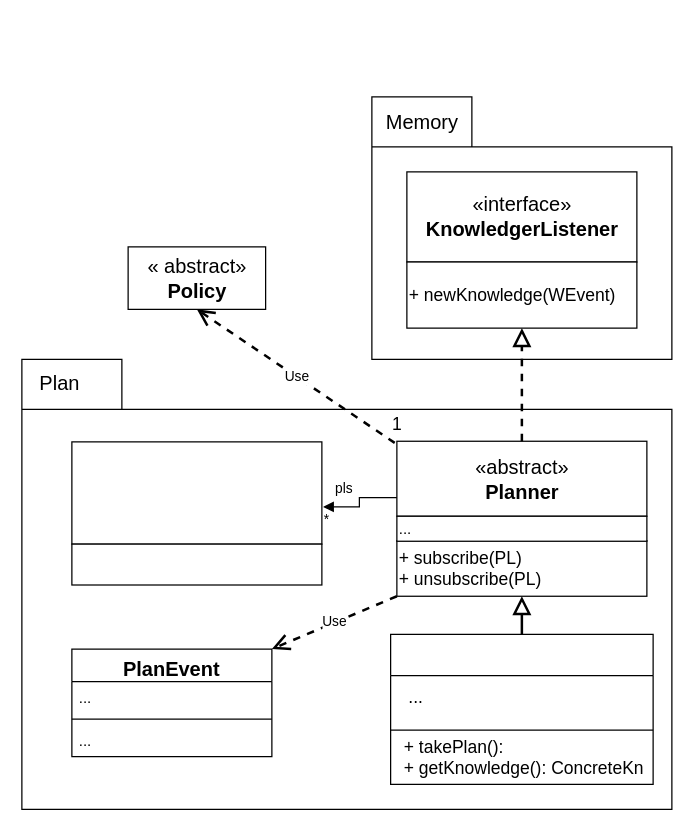
The diagram is 694 pixels wide and 831 high, and some of its shapes have lost their labels. The shapes that lost their labels are listed below. From the top down, each one's box as (x1, y1, x2, y2) in pixels, then its label:
(71, 441, 322, 544): «interface» PlannerListener
(71, 543, 322, 585): + newPlan(PlanEvent)
(389, 633, 653, 784): ConcretePlanner
